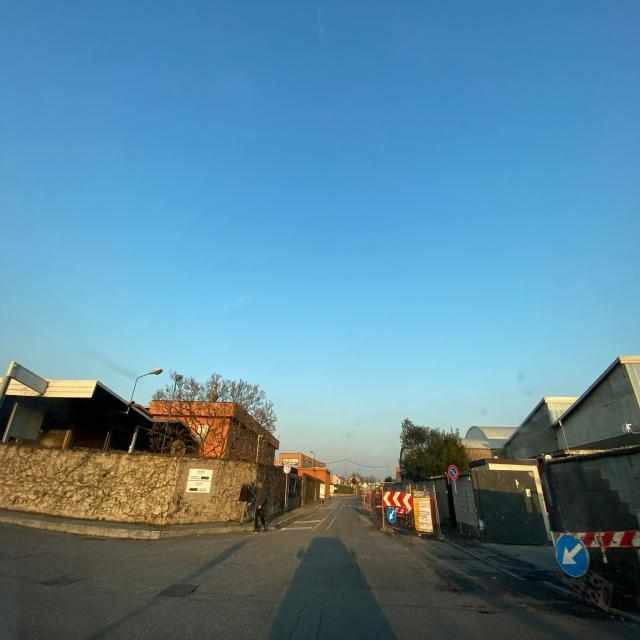forb_stopping: (448, 465, 458, 480)
